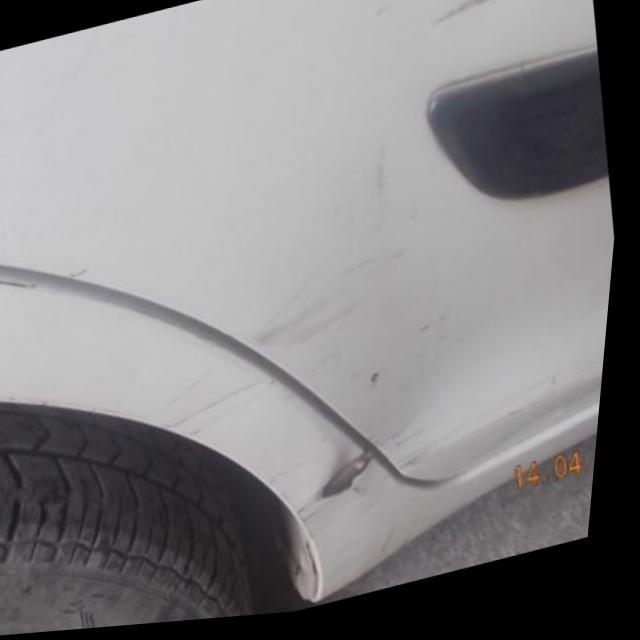crack: (326, 452, 384, 509)
rub: (253, 256, 418, 362)
scratch: (424, 0, 547, 43), (373, 147, 398, 212)
